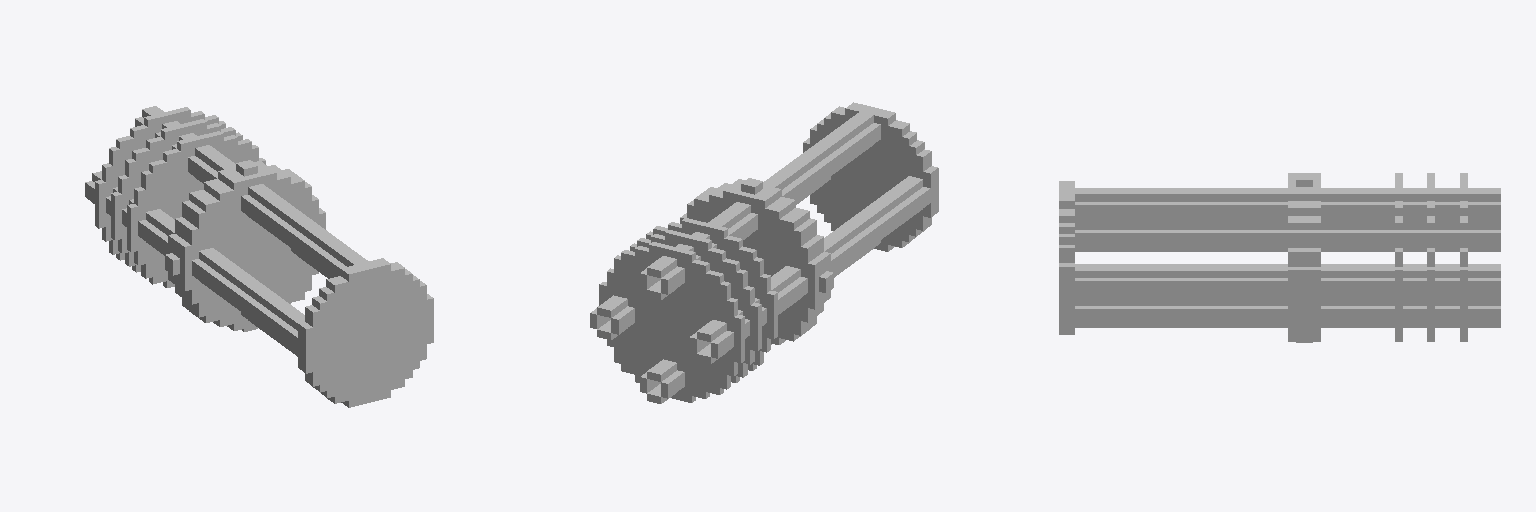
Rendered from minigun-3.obj.
The picture shows the model from 3 angles: view 1: azimuth 30°, elevation 25°; view 2: azimuth 150°, elevation 25°; view 3: azimuth 270°, elevation 25°; orthographic projection.
Visible parts, largest first — view 1: миниган-3; view 2: миниган-3; view 3: миниган-3.
Boxes of the visible parts, x1=… form: миниган-3: x1=85, y1=106, x2=433, y2=407; миниган-3: x1=590, y1=102, x2=938, y2=403; миниган-3: x1=1059, y1=173, x2=1500, y2=342.
Size of the model in its own units: 21 by 22 by 54.